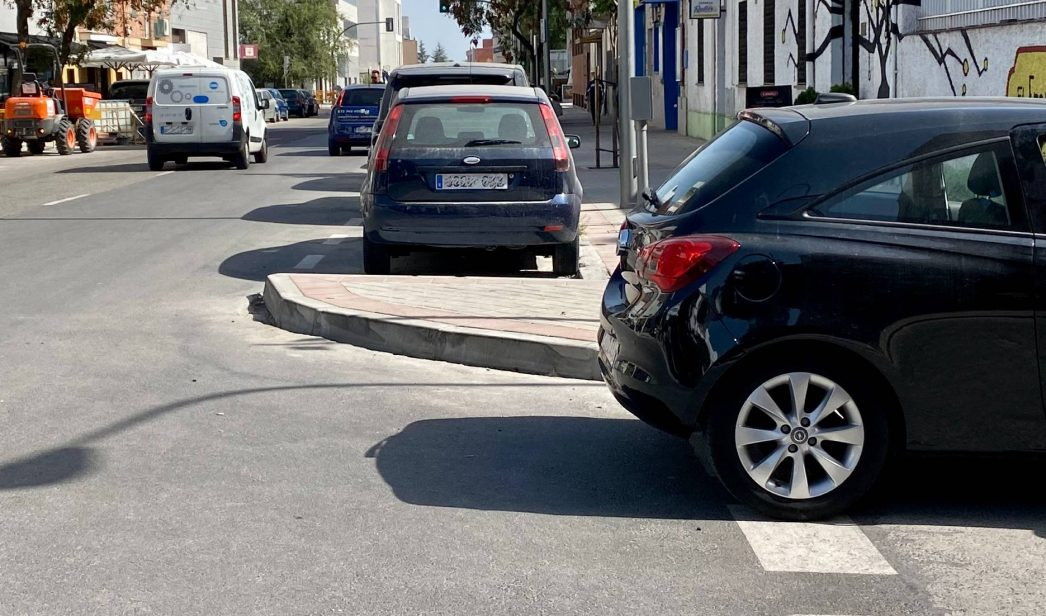car: (558, 92, 1045, 508), (356, 84, 593, 275), (139, 67, 277, 174), (323, 84, 396, 155), (275, 82, 324, 120), (263, 87, 293, 119), (255, 88, 282, 122)
